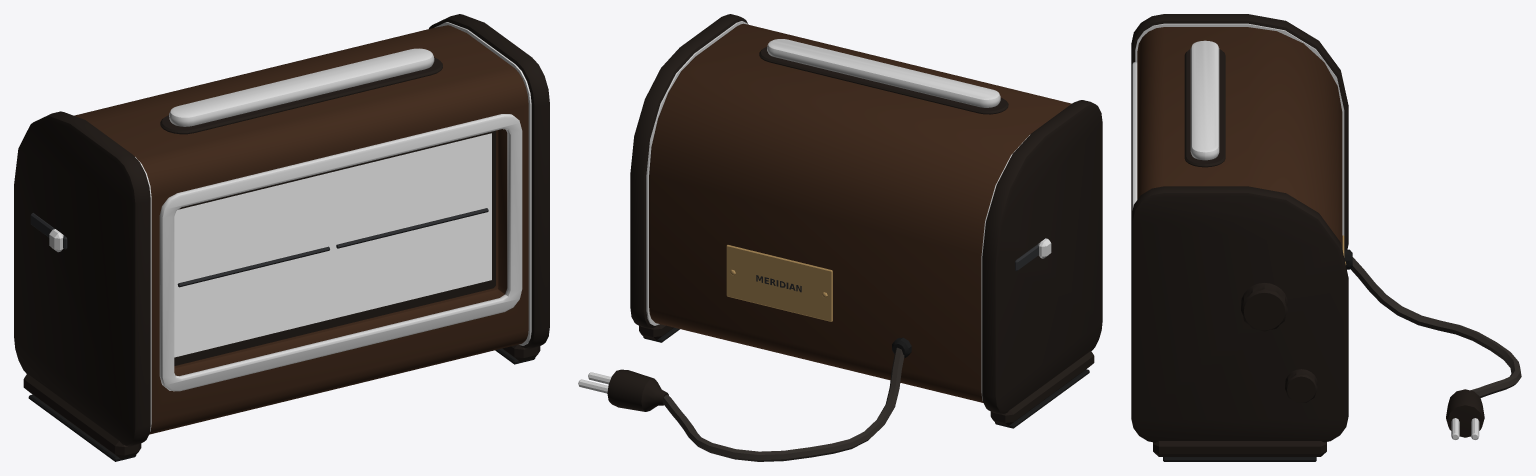
File: flip_clock.glb
The picture shows the model from 3 angles, left to right: view 1: azimuth 30°, elevation 25°; view 2: azimuth 150°, elevation 25°; view 3: azimuth 270°, elevation 25°; orthographic projection. The views are drawn at different scales.
Parts seen in each view (by area): view 1: clock_body, clock_face; view 2: clock_body; view 3: clock_body.
Part boxes in pixels (<box>): clock_body: <box>14,14,549,461</box>; clock_face: <box>174,133,491,357</box>; clock_body: <box>578,14,1102,461</box>; clock_body: <box>1131,14,1521,461</box>.
Size of the model in its own units: 0.222 by 0.1496 by 0.1905.
